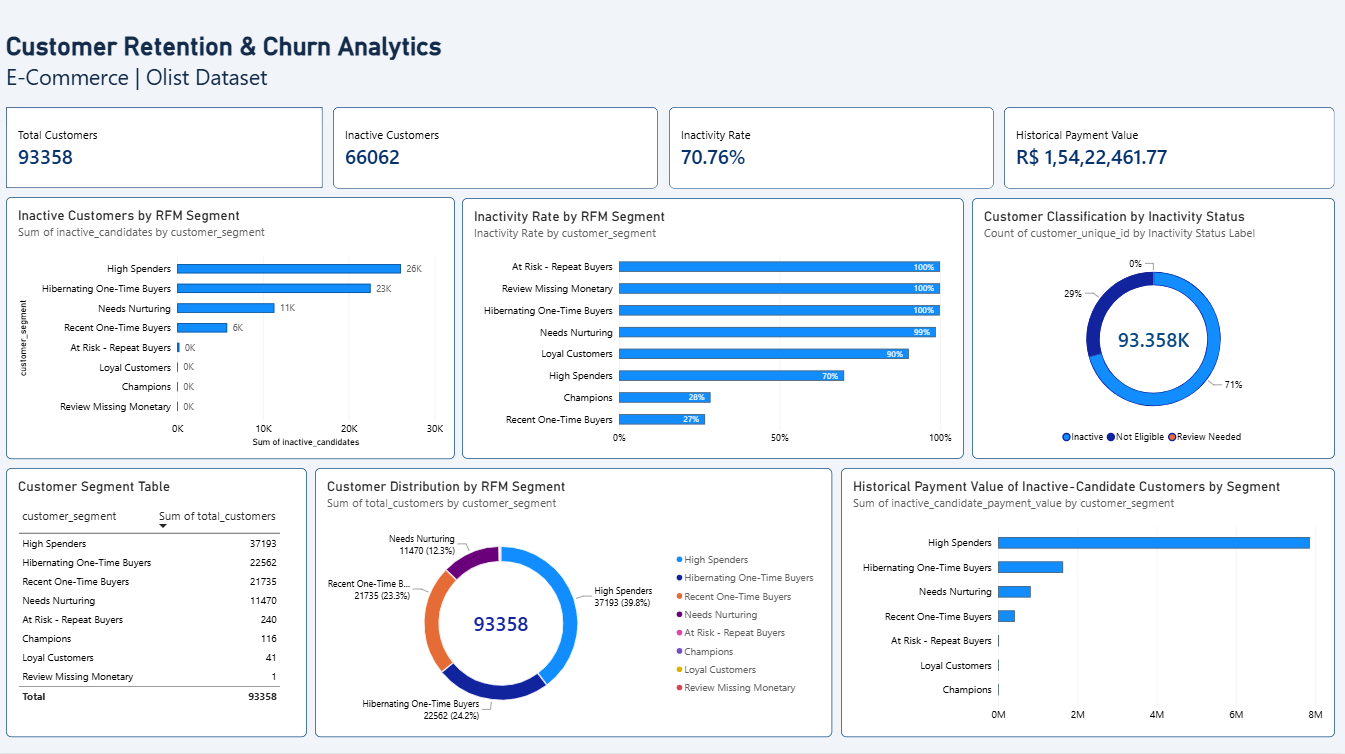

The page's visual inventory and layout, read from the dashboard file:
{"tool":"powerbi","page":{"name":"Page 1","canvas":[1920,1080],"ordinal":0},"visuals":[{"type":"cardVisual","fields":{"Data":["ecommerce_retention vw_customer_retention_detail.Total Customers"]},"box":[19.9,164.6,449.6,115.7],"z":0},{"type":"cardVisual","fields":{"Data":["ecommerce_retention vw_customer_retention_summary.Inactive Customers"]},"box":[483.9,164.6,461.2,116.4],"z":1000},{"type":"cardVisual","fields":{"Data":["ecommerce_retention vw_customer_retention_summary.Inactivity Rate"]},"box":[960.7,164.6,461.2,116.4],"z":2000},{"type":"cardVisual","fields":{"Data":["ecommerce_retention vw_customer_retention_summary.Historical Payment Value"]},"box":[1436.1,164.6,469.7,116.4],"z":3000},{"type":"textbox","title":"Customer Retention & Churn Analytics","box":[19.9,56.8,1040.2,92.2],"z":4000},{"type":"clusteredBarChart","title":"Inactive Customers by RFM Segment","fields":{"Category":["ecommerce_retention vw_customer_retention_summary.customer_segment"],"Y":["Sum(ecommerce_retention vw_customer_retention_summary.inactive_candidates)"]},"box":[19.9,292.3,637.2,371.8],"z":6000},{"type":"clusteredBarChart","title":"Inactivity Rate by RFM Segment","fields":{"Category":["ecommerce_retention vw_customer_retention_summary.customer_segment"],"Y":["ecommerce_retention vw_customer_retention_summary.Inactivity Rate"]},"box":[667,293.7,712.4,370.4],"z":7000},{"type":"donutChart","title":"Customer Distribution by RFM Segment","fields":{"Category":["ecommerce_retention vw_customer_retention_summary.customer_segment"],"Y":["Sum(ecommerce_retention vw_customer_retention_summary.total_customers)"]},"box":[458.4,676.9,733.7,381.7],"z":8000},{"type":"clusteredBarChart","title":"Historical Payment Value of Inactive-Candidate Customers by Segment","fields":{"Category":["ecommerce_retention vw_customer_retention_summary.customer_segment"],"Y":["Sum(ecommerce_retention vw_customer_retention_summary.inactive_candidate_payment_value)"]},"box":[1204.8,676.9,701,381.7],"z":9000},{"type":"donutChart","title":"Customer Classification by Inactivity Status","fields":{"Category":["ecommerce_retention vw_customer_retention_detail.Inactivity Status Label"],"Y":["Count(ecommerce_retention vw_customer_retention_detail.customer_unique_id)"]},"box":[1390.7,293.7,515.1,370.4],"z":10000},{"type":"tableEx","title":"Customer Segment Table","fields":{"Values":["ecommerce_retention vw_customer_retention_summary.customer_segment","ecommerce_retention vw_customer_retention_summary.total_customers"]},"box":[19.9,676.9,427.1,381.7],"z":11000}]}

Visuals, with their boxes in screenshot pixels (x1, y1, x2, y2), scaled from the page's 1920x1080 canvas onto the 1345x754 screenshot:
cardVisual - ecommerce_retention vw_customer_retention_detail.Total Customers: {"x1": 14, "y1": 115, "x2": 329, "y2": 196}
cardVisual - ecommerce_retention vw_customer_retention_summary.Inactive Customers: {"x1": 339, "y1": 115, "x2": 662, "y2": 196}
cardVisual - ecommerce_retention vw_customer_retention_summary.Inactivity Rate: {"x1": 673, "y1": 115, "x2": 996, "y2": 196}
cardVisual - ecommerce_retention vw_customer_retention_summary.Historical Payment Value: {"x1": 1006, "y1": 115, "x2": 1335, "y2": 196}
"Customer Retention & Churn Analytics" textbox: {"x1": 14, "y1": 40, "x2": 743, "y2": 104}
"Inactive Customers by RFM Segment" clusteredBarChart: {"x1": 14, "y1": 204, "x2": 460, "y2": 464}
"Inactivity Rate by RFM Segment" clusteredBarChart: {"x1": 467, "y1": 205, "x2": 966, "y2": 464}
"Customer Distribution by RFM Segment" donutChart: {"x1": 321, "y1": 473, "x2": 835, "y2": 739}
"Historical Payment Value of Inactive-Candidate Customers by Segment" clusteredBarChart: {"x1": 844, "y1": 473, "x2": 1335, "y2": 739}
"Customer Classification by Inactivity Status" donutChart: {"x1": 974, "y1": 205, "x2": 1335, "y2": 464}
"Customer Segment Table" tableEx: {"x1": 14, "y1": 473, "x2": 313, "y2": 739}
